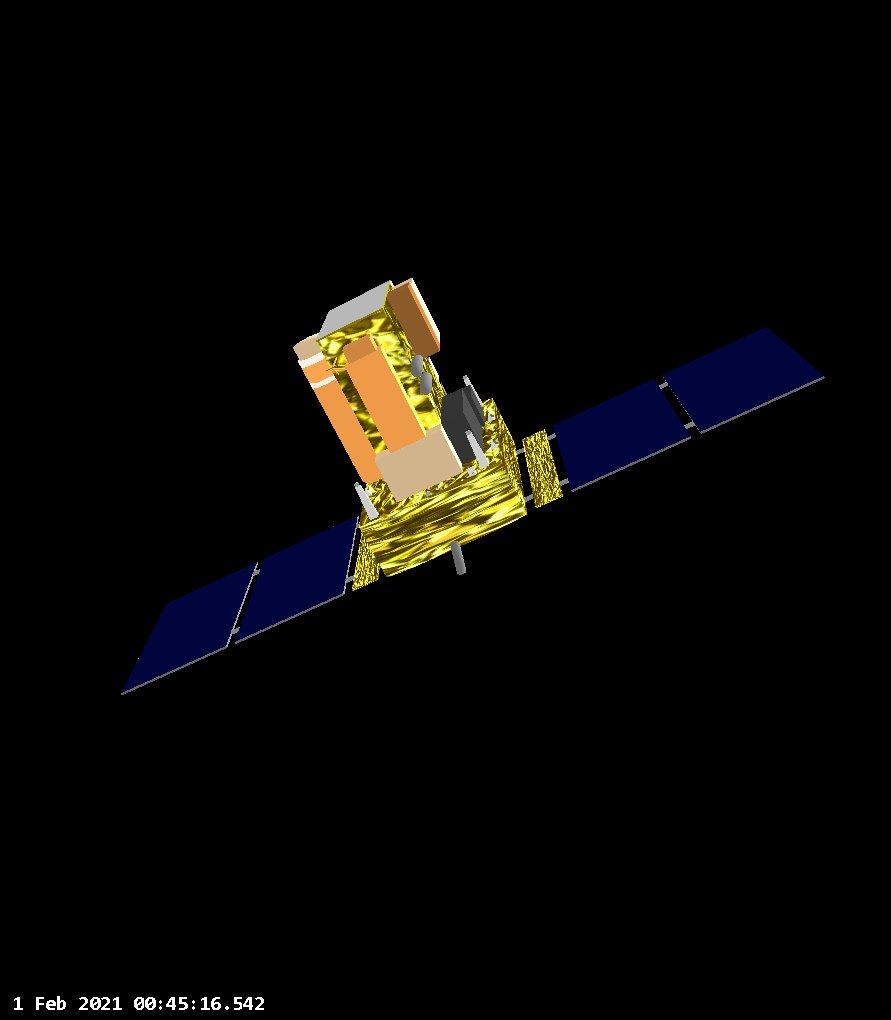body: (288, 269, 530, 582)
solar: (544, 323, 830, 499), (115, 506, 364, 698)
thruster: (442, 537, 470, 581)
